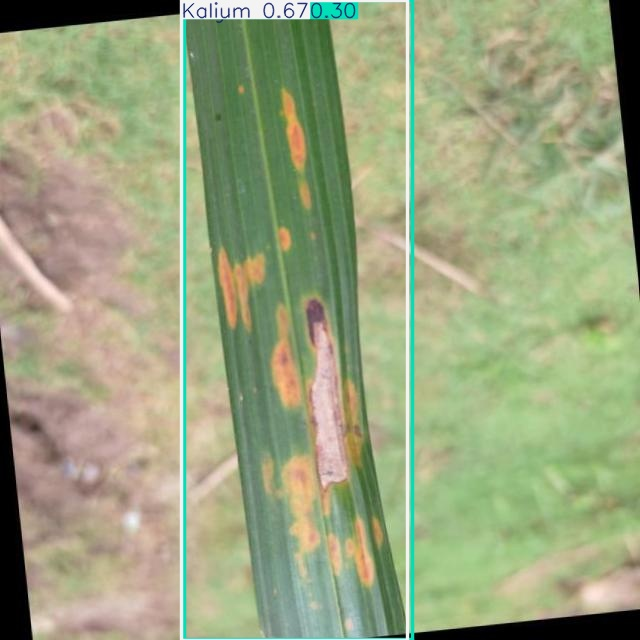Kalium: (181, 1, 407, 640)
Megnesium: (184, 0, 413, 640)
